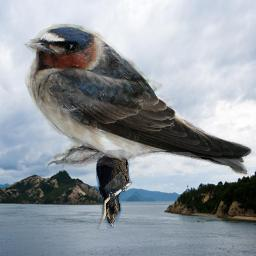Crow: (96, 139, 136, 229)
Swallow: (21, 23, 255, 177)
